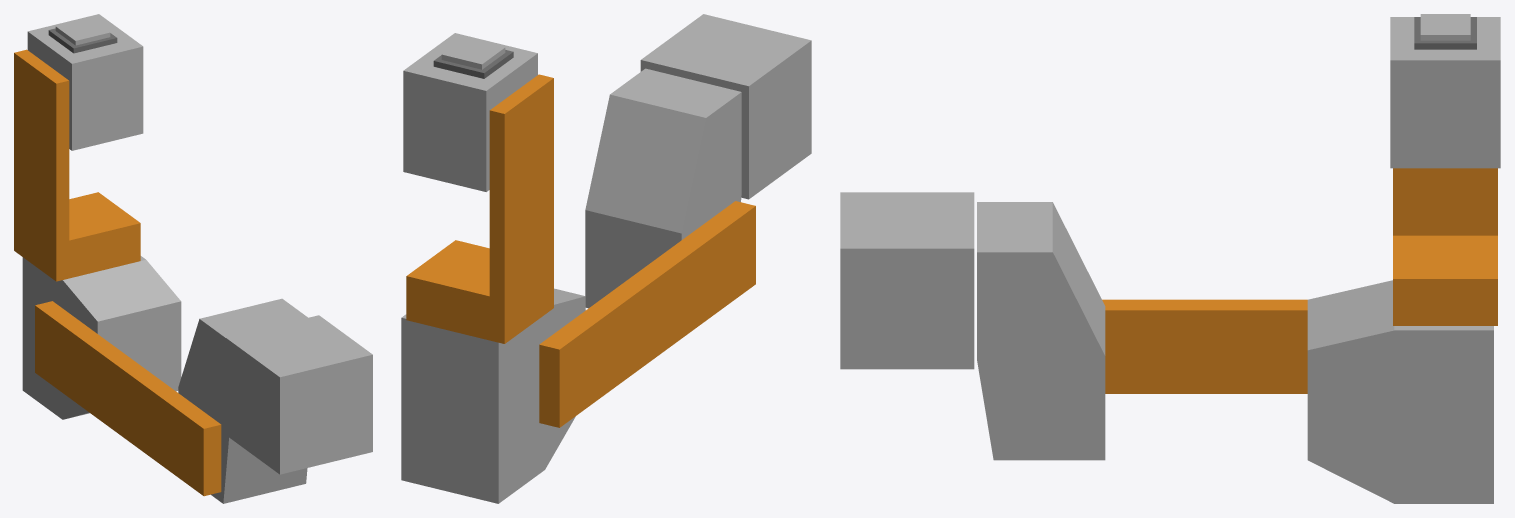
File: robotArm.dae
3 views of the same model, side by side, from view 1: azimuth 30°, elevation 25°; view 2: azimuth 150°, elevation 25°; view 3: azimuth 270°, elevation 25° (orthographic). The views are drawn at different scales.
Visible parts, largest first — view 1: Arm_0_Link, Arm_4_Link, Arm_2_Link, Arm_3_Link, Arm_5_Link, Arm_1_Link, Arm_6_Link; view 2: Arm_1_Link, Arm_3_Link, Arm_4_Link, Arm_2_Link, Arm_0_Link, Arm_5_Link, Arm_6_Link; view 3: Arm_3_Link, Arm_1_Link, Arm_0_Link, Arm_2_Link, Arm_4_Link, Arm_5_Link, Arm_6_Link.
Boxes of the visible parts, left/top/right/bottom form: Arm_0_Link: left=226, top=315, right=372, bottom=474; Arm_4_Link: left=14, top=49, right=140, bottom=281; Arm_2_Link: left=35, top=301, right=221, bottom=496; Arm_3_Link: left=22, top=256, right=181, bottom=419; Arm_5_Link: left=27, top=14, right=143, bottom=150; Arm_1_Link: left=178, top=298, right=307, bottom=503; Arm_6_Link: left=48, top=18, right=117, bottom=53; Arm_1_Link: left=585, top=68, right=741, bottom=308; Arm_3_Link: left=401, top=288, right=585, bottom=503; Arm_4_Link: left=406, top=74, right=553, bottom=343; Arm_2_Link: left=539, top=201, right=755, bottom=427; Arm_0_Link: left=640, top=14, right=811, bottom=199; Arm_5_Link: left=403, top=33, right=537, bottom=191; Arm_6_Link: left=433, top=37, right=513, bottom=78; Arm_3_Link: left=1307, top=280, right=1493, bottom=503; Arm_1_Link: left=977, top=202, right=1105, bottom=460; Arm_0_Link: left=840, top=192, right=974, bottom=369; Arm_2_Link: left=1102, top=299, right=1307, bottom=393; Arm_4_Link: left=1393, top=168, right=1497, bottom=325; Arm_5_Link: left=1390, top=17, right=1500, bottom=168; Arm_6_Link: left=1414, top=14, right=1476, bottom=49.
Bounding box in the file's own units: 0.1244 × 0.5349 × 0.4054.
